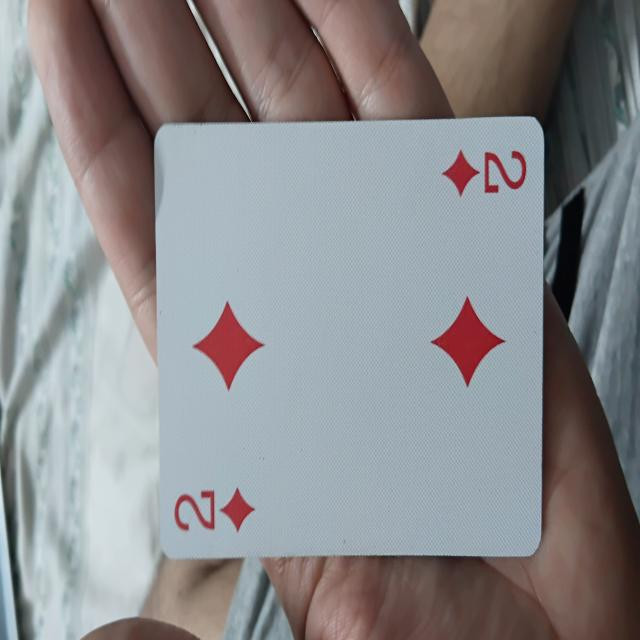2D: (153, 118, 541, 558)
